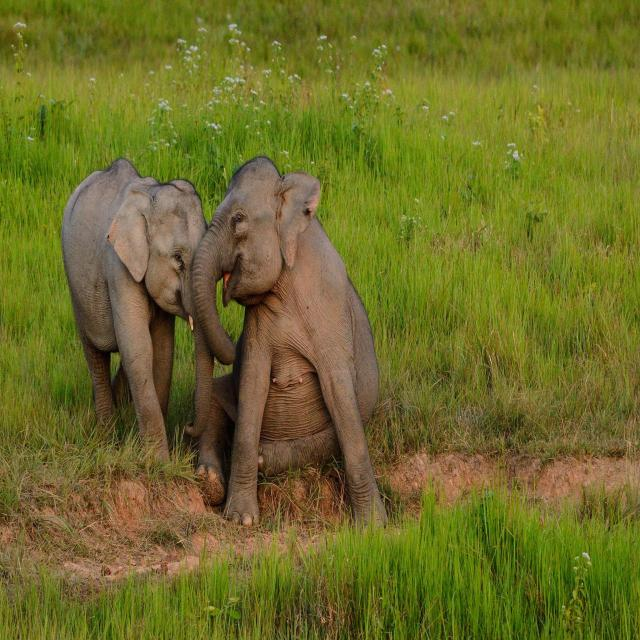Elephant: (194, 156, 385, 528), (58, 156, 213, 454)
